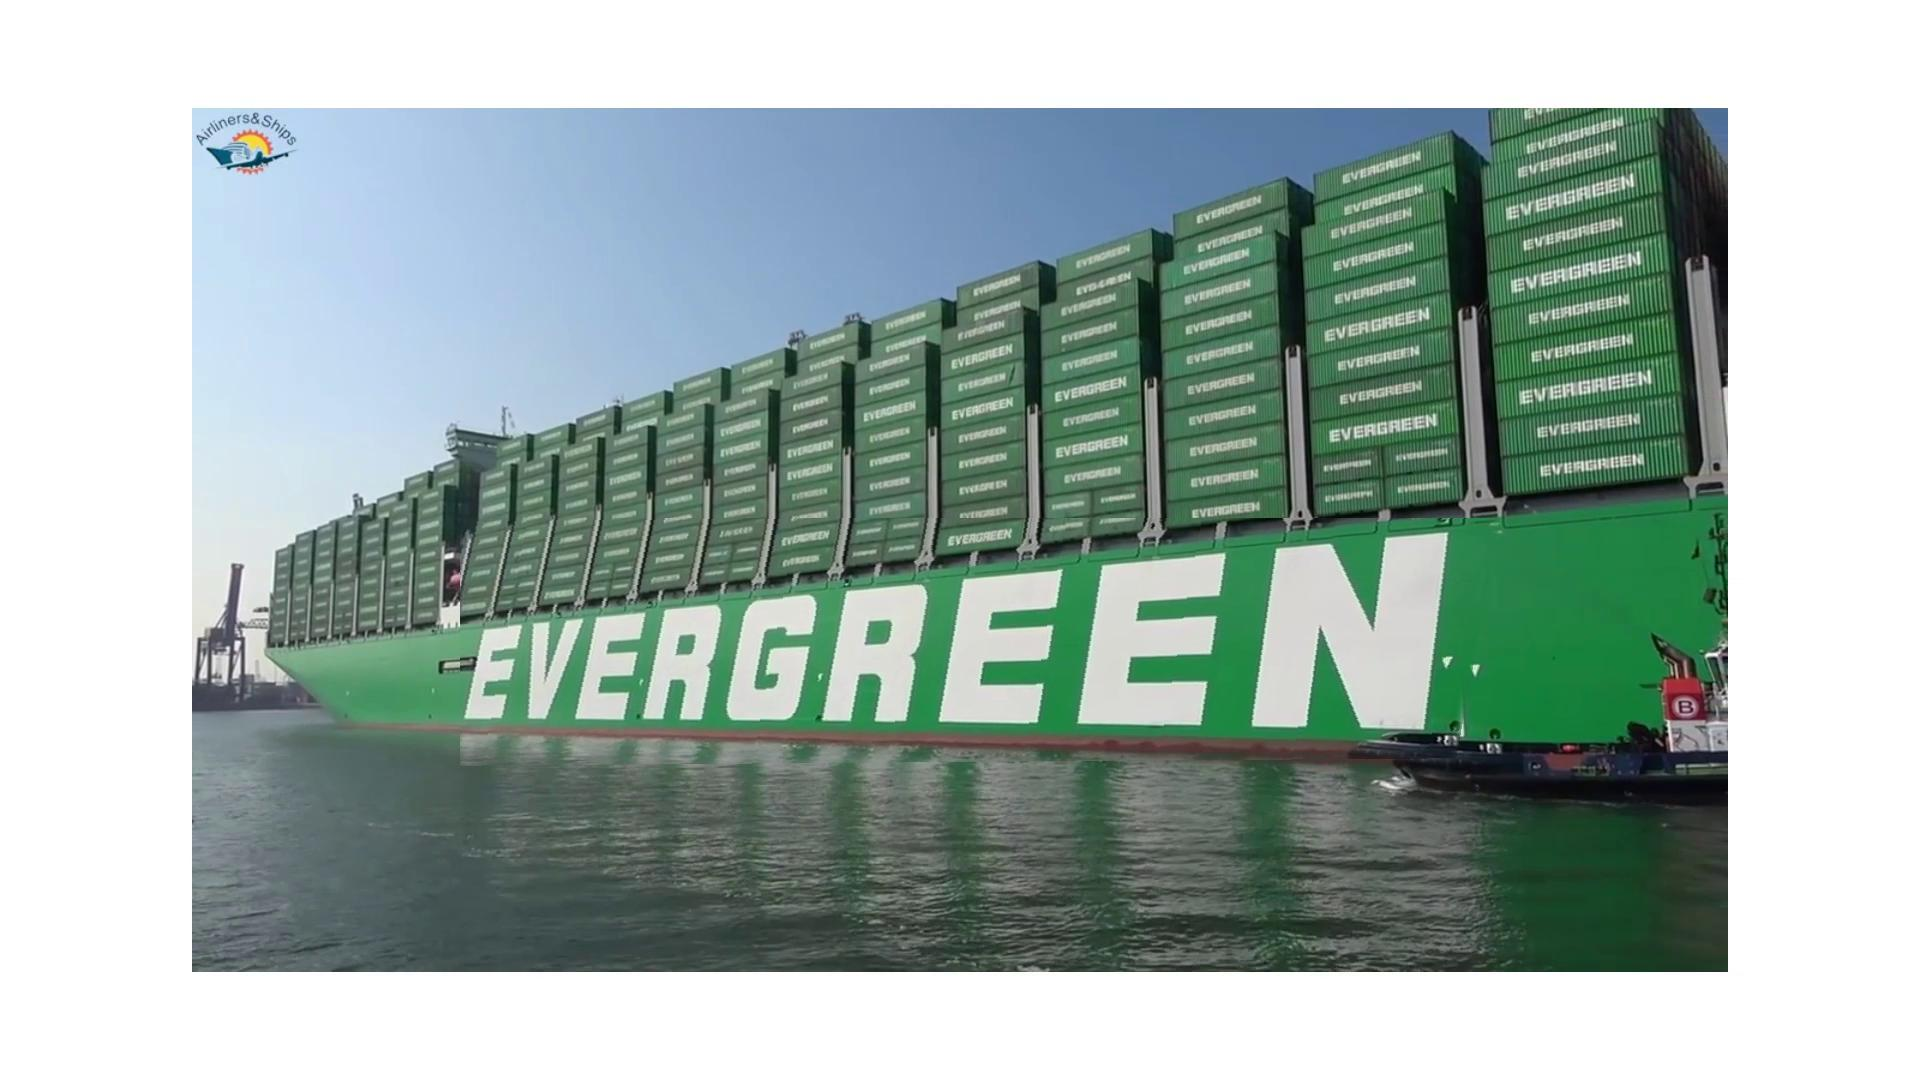OCR: (460, 518, 1502, 766)
